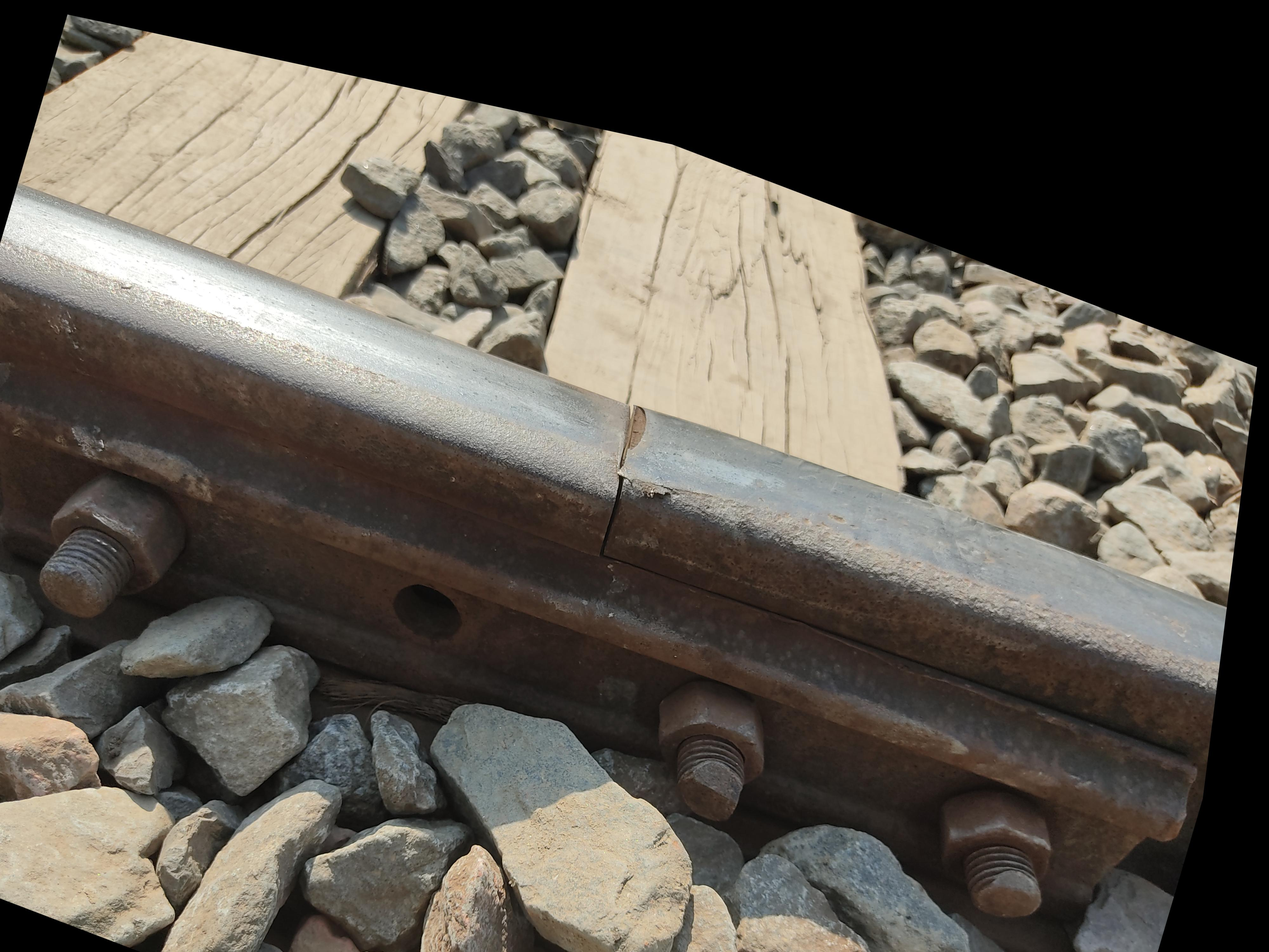person: (579, 239, 849, 511)
